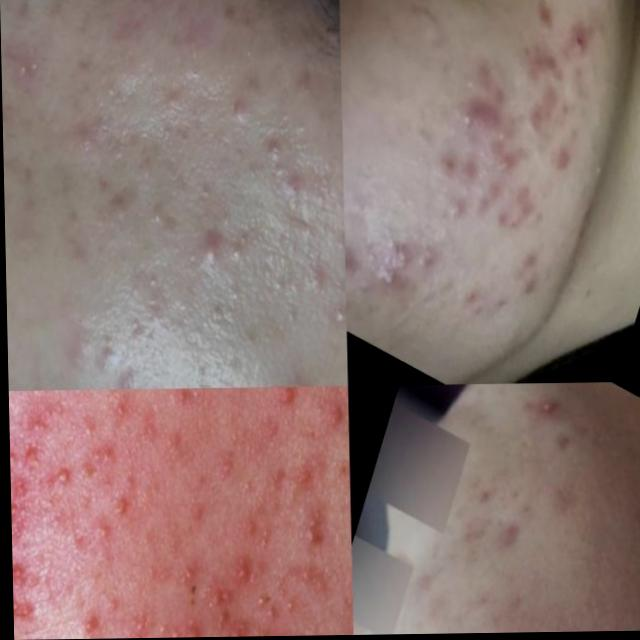8: (522, 384, 573, 449), (84, 430, 131, 490), (426, 135, 470, 194), (445, 92, 490, 148), (367, 259, 413, 312), (563, 19, 600, 71), (318, 393, 347, 451), (528, 0, 562, 45), (411, 240, 440, 288), (73, 602, 109, 639), (344, 235, 365, 296), (447, 187, 475, 231), (490, 150, 523, 186), (548, 617, 600, 634), (268, 388, 299, 411)
9: (291, 503, 334, 556), (146, 602, 190, 638), (110, 488, 144, 531), (174, 555, 205, 601), (48, 456, 81, 498), (225, 547, 255, 593), (10, 591, 39, 631), (277, 588, 306, 624), (247, 579, 272, 614)
blackheads: (504, 73, 581, 170), (467, 167, 549, 258), (514, 38, 575, 107), (8, 473, 44, 560), (488, 504, 533, 566), (453, 279, 490, 324), (8, 438, 21, 512)
